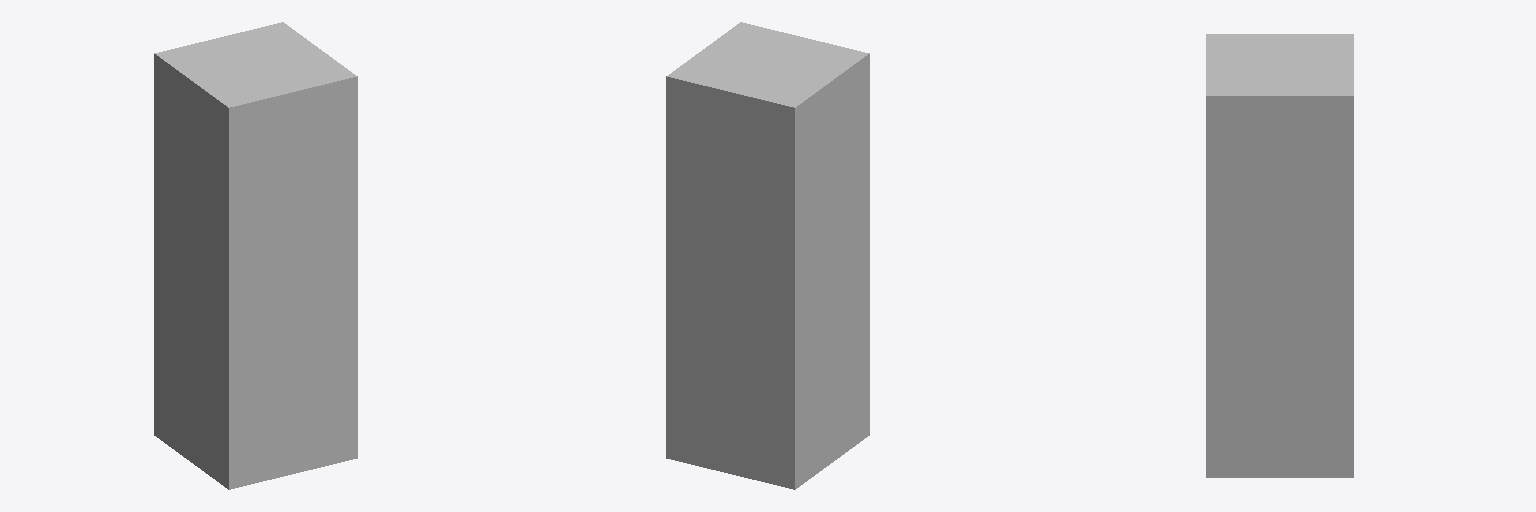
Rendered from BuildingV6.obj.
The picture shows the model from 3 angles: view 1: azimuth 30°, elevation 25°; view 2: azimuth 150°, elevation 25°; view 3: azimuth 270°, elevation 25°; orthographic projection.
Parts seen in each view (by area): view 1: polySurface101; view 2: polySurface101; view 3: polySurface101.
Part boxes in pixels (bbox=[...]): polySurface101: bbox=[154, 22, 357, 489]; polySurface101: bbox=[666, 22, 869, 489]; polySurface101: bbox=[1206, 34, 1353, 477].
Bounding box in the file's own units: 1.02 × 2.84 × 1.02.